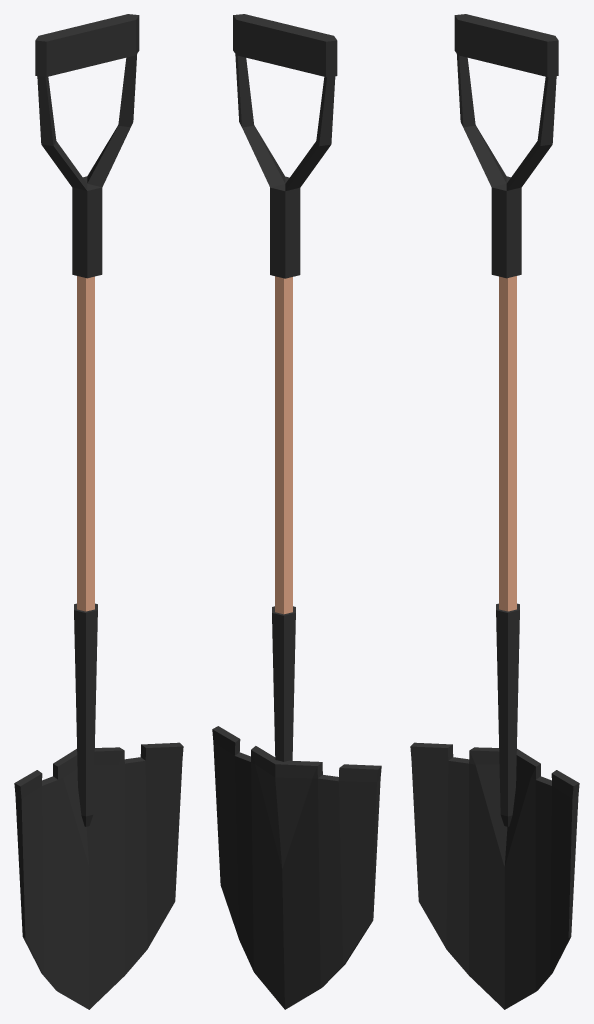
Rendered from shovel.fbx.
The picture shows the model from 3 angles, left to right: view 1: azimuth 30°, elevation 25°; view 2: azimuth 150°, elevation 25°; view 3: azimuth 330°, elevation 25°; orthographic projection.
Visible parts, largest first — view 1: Cylinder001; view 2: Cylinder001; view 3: Cylinder001.
Boxes of the visible parts, left/top/right/bottom form: Cylinder001: left=14, top=14, right=183, bottom=1009; Cylinder001: left=212, top=14, right=381, bottom=1009; Cylinder001: left=410, top=14, right=579, bottom=1009.
Bounding box in the file's own units: 0.1688 × 0.9553 × 0.0438.
Materials: 1 (1 with a texture image).
